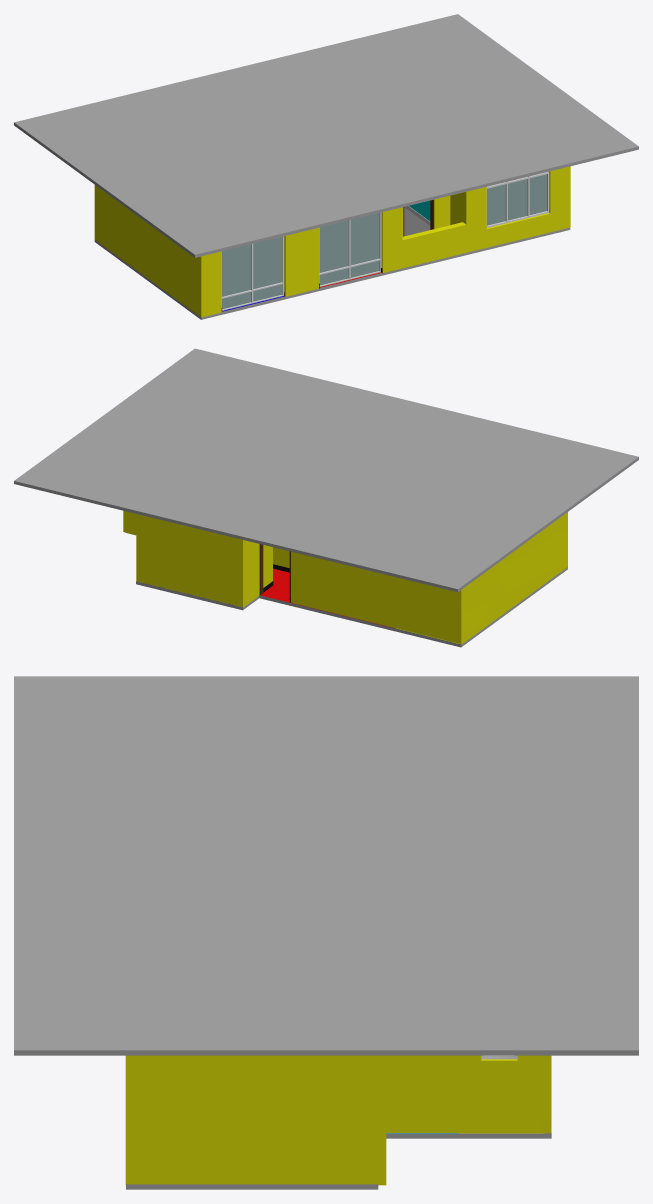
The model's file is Wing_A_Flat_No_03_Type03_MatID.fbx.
The picture shows the model from 3 angles, top to bottom: view 1: azimuth 30°, elevation 25°; view 2: azimuth 150°, elevation 25°; view 3: azimuth 270°, elevation 25°; orthographic projection. The views are drawn at different scales.
Visible parts, largest first — view 1: roof, wall, balacony_door:Door_Glass1, Door_Glass1, Wing_A_Flat_No_01_Type03:Flat_No_03_Type03:Glass1, Wing_A_Flat_No_01_Type03:pCube8, Wing_A_Flat_No_01_Type03:Flat_No_03_Type03:Window_Frame, balacony_door:Flat_No_03_Type03:Door_frame_03, Door_frame_03; view 2: roof, wall, Wing_A_Flat_No_01_Type03:pCube8; view 3: roof, wall, Wing_A_Flat_No_01_Type03:pCube8.
Part boxes in pixels (x1,y1,x2,y2): roof: [14, 14, 638, 257]; wall: [94, 166, 570, 317]; balacony_door:Door_Glass1: [319, 213, 379, 285]; Door_Glass1: [222, 237, 281, 309]; Wing_A_Flat_No_01_Type03:Flat_No_03_Type03:Glass1: [487, 174, 546, 225]; Wing_A_Flat_No_01_Type03:pCube8: [94, 207, 570, 319]; Wing_A_Flat_No_01_Type03:Flat_No_03_Type03:Window_Frame: [486, 171, 549, 227]; balacony_door:Flat_No_03_Type03:Door_frame_03: [319, 212, 381, 286]; Door_frame_03: [221, 236, 284, 310]; roof: [14, 348, 638, 592]; wall: [123, 511, 567, 644]; Wing_A_Flat_No_01_Type03:pCube8: [126, 532, 567, 647]; roof: [14, 676, 638, 1055]; wall: [125, 1055, 551, 1185]; Wing_A_Flat_No_01_Type03:pCube8: [126, 1056, 551, 1189].
Bounding box in the file's own units: 1497 × 317 × 1057.
